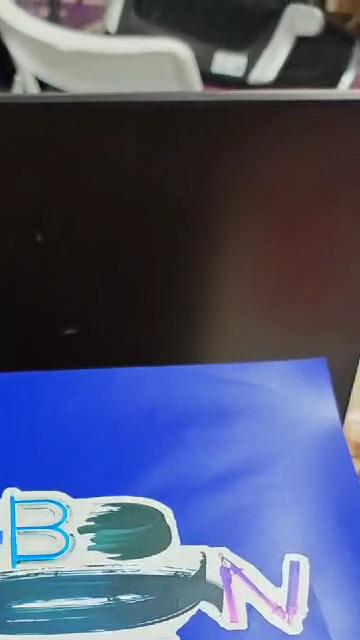B_R1: (0, 483, 332, 640)
